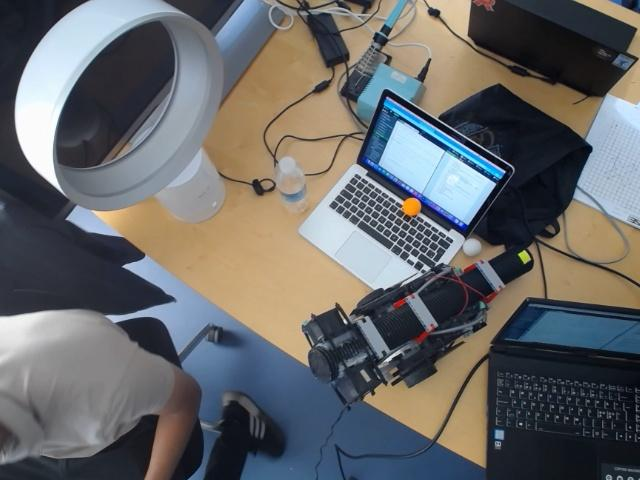orange: (402, 197, 420, 217)
robot: (302, 248, 535, 406)
robot-front: (494, 248, 533, 281)
white: (463, 238, 483, 257)
